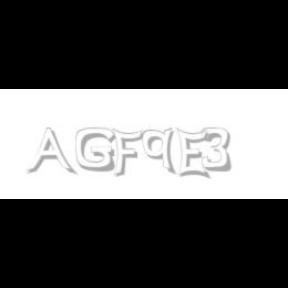3: (202, 128, 232, 172)
A: (26, 128, 74, 176)
E: (176, 128, 209, 180)
F: (111, 128, 143, 178)
G: (75, 128, 115, 172)
q: (142, 128, 178, 176)
